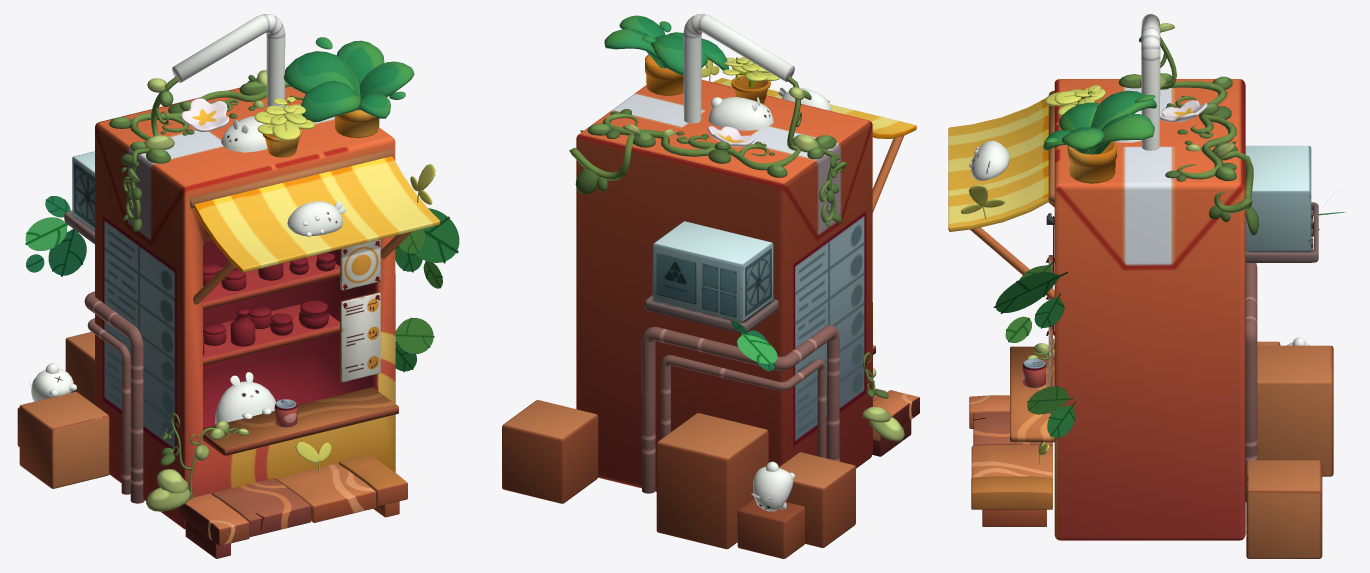
Rendered from shop.fbx.
The picture shows the model from 3 angles, left to right: view 1: azimuth 30°, elevation 25°; view 2: azimuth 150°, elevation 25°; view 3: azimuth 270°, elevation 25°; orthographic projection. The views are drawn at different scales.
Parts seen in each view (by area): view 1: Mesh_Juice_Box, Mesh_Plant_2, Mesh_Plant_3, Mesh_Box_001, Mesh_Pipeline, Mesh_Board_003, Mesh_Board_002, Mesh_Board_001, Mesh_Plant_1, Mesh_Board, Mesh_Air_conditioning, Mesh_Bony_001 (+13 smaller); view 2: Mesh_Juice_Box, Mesh_Box_002, Mesh_Air_conditioning, Mesh_Pipeline, Mesh_Plant_3, Mesh_Box_003, Mesh_Box_001, Mesh_Plant_2, Mesh_Box, Mesh_Bony_007, Mesh_Bony_003, Mesh_Board_001 (+4 smaller); view 3: Mesh_Juice_Box, Mesh_Box_002, Mesh_Air_conditioning, Mesh_Box_003, Mesh_Plant_2, Mesh_Plant_3, Mesh_Board, Mesh_Pipeline, Mesh_Board_003, Mesh_Leaf_1_010, Mesh_Board_002, Mesh_Bony_006 (+9 smaller).
Boxes of the visible parts, bbox=[...] form: Mesh_Juice_Box: bbox=[95, 14, 439, 529]; Mesh_Plant_2: bbox=[283, 37, 414, 137]; Mesh_Plant_3: bbox=[109, 70, 303, 511]; Mesh_Box_001: bbox=[19, 391, 109, 488]; Mesh_Pipeline: bbox=[84, 291, 144, 503]; Mesh_Board_003: bbox=[275, 463, 375, 522]; Mesh_Board_002: bbox=[212, 478, 310, 536]; Mesh_Board_001: bbox=[180, 493, 249, 558]; Mesh_Plant_1: bbox=[254, 97, 314, 157]; Mesh_Board: bbox=[339, 454, 407, 517]; Mesh_Air_conditioning: bbox=[64, 151, 94, 244]; Mesh_Bony_001: bbox=[215, 372, 275, 424]; Mesh_Juice_Box: bbox=[576, 14, 916, 491]; Mesh_Box_002: bbox=[656, 413, 768, 549]; Mesh_Air_conditioning: bbox=[644, 221, 778, 333]; Mesh_Pipeline: bbox=[641, 325, 839, 493]; Mesh_Plant_3: bbox=[569, 76, 904, 441]; Mesh_Box_003: bbox=[502, 400, 598, 503]; Mesh_Box_001: bbox=[779, 452, 855, 547]; Mesh_Plant_2: bbox=[604, 15, 728, 95]; Mesh_Box: bbox=[737, 498, 804, 558]; Mesh_Bony_007: bbox=[708, 97, 773, 130]; Mesh_Bony_003: bbox=[751, 461, 794, 511]; Mesh_Board_001: bbox=[872, 390, 919, 456]; Mesh_Juice_Box: bbox=[948, 14, 1245, 540]; Mesh_Box_002: bbox=[1257, 345, 1333, 476]; Mesh_Air_conditioning: bbox=[1245, 145, 1318, 262]; Mesh_Box_003: bbox=[1246, 460, 1322, 558]; Mesh_Plant_2: bbox=[1043, 90, 1156, 183]; Mesh_Plant_3: bbox=[1026, 23, 1258, 359]; Mesh_Board: bbox=[971, 476, 1052, 526]; Mesh_Pipeline: bbox=[1245, 262, 1257, 501]; Mesh_Board_003: bbox=[971, 445, 1052, 477]; Mesh_Leaf_1_010: bbox=[993, 271, 1067, 313]; Mesh_Board_002: bbox=[973, 412, 1052, 446]; Mesh_Bony_006: bbox=[969, 140, 1009, 180].
Size of the model in its own units: 252 by 346 by 271.
3 materials, 3 textured.
